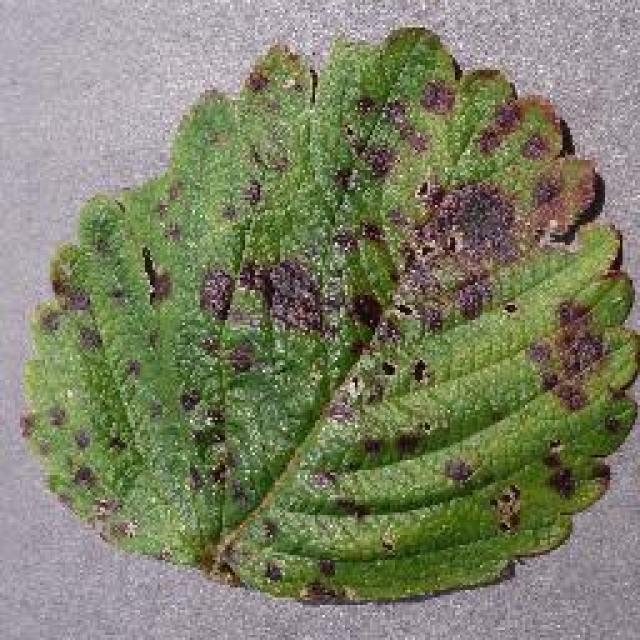Strawberry___Leaf_scorch: (2, 5, 638, 630)
